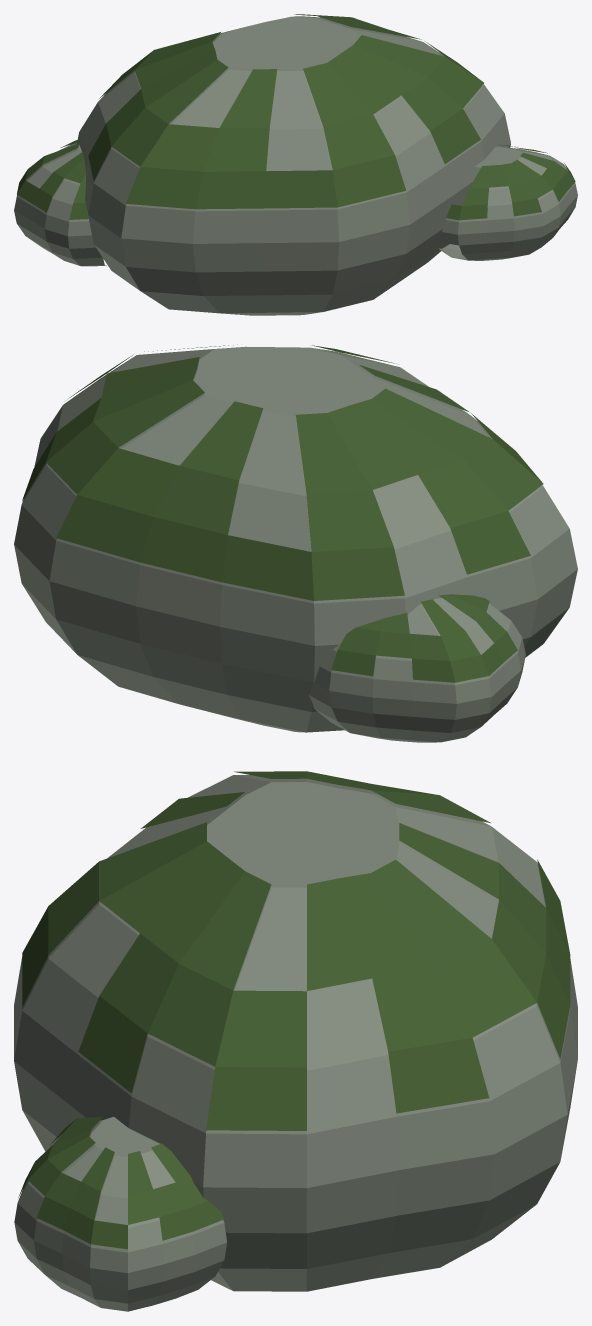
Rendered from river_rock.glb.
3 views of the same model, one above another, from view 1: azimuth 30°, elevation 25°; view 2: azimuth 150°, elevation 25°; view 3: azimuth 270°, elevation 25° (orthographic). The views are drawn at different scales.
Visible parts, largest first — view 1: river_rock; view 2: river_rock; view 3: river_rock.
Part boxes in pixels (<box>): river_rock: <box>14,14,577,315</box>; river_rock: <box>14,344,577,742</box>; river_rock: <box>14,771,577,1311</box>.
Bounding box in the file's own units: 1.88 × 0.9856 × 1.26.
